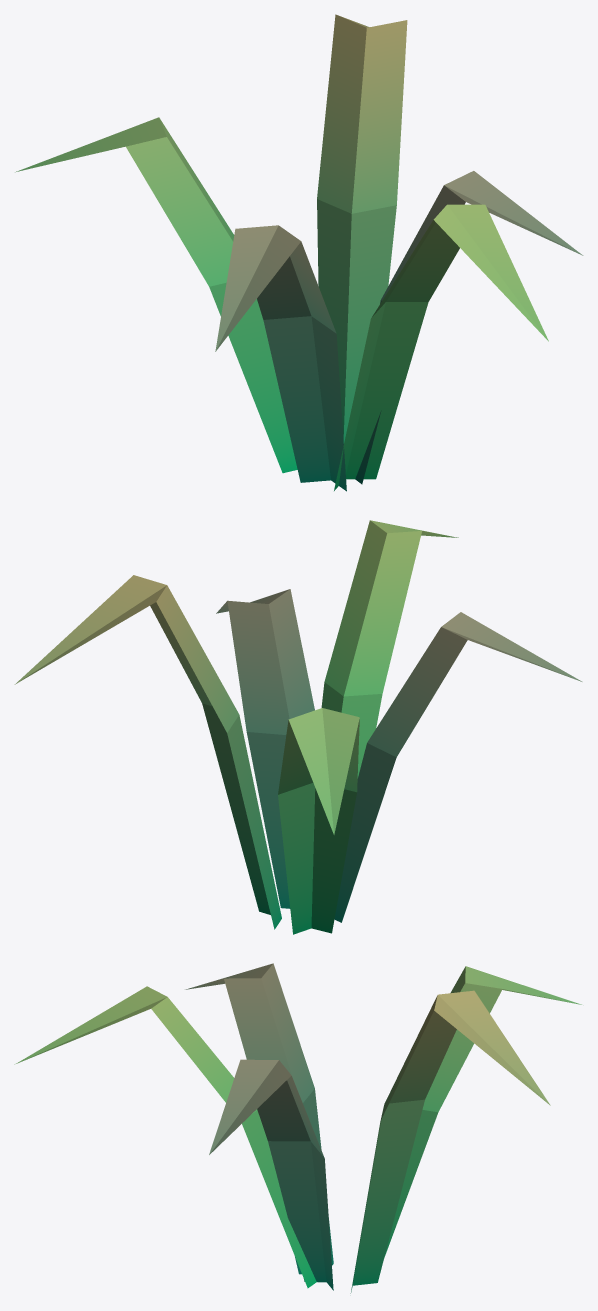
File: grass_clump4_v2.fbx
The picture shows the model from 3 angles, top to bottom: view 1: azimuth 30°, elevation 25°; view 2: azimuth 150°, elevation 25°; view 3: azimuth 270°, elevation 25°; orthographic projection. The views are drawn at different scales.
Parts seen in each view (by area): view 1: grass_clump4_v2; view 2: grass_clump4_v2; view 3: grass_clump4_v2.
Part boxes in pixels (box(x1,y1,x2,y2)): grass_clump4_v2: box(15, 14, 583, 491); grass_clump4_v2: box(14, 520, 582, 934); grass_clump4_v2: box(14, 963, 581, 1293).
Size of the model in its own units: 64.93 by 58.82 by 94.42.
